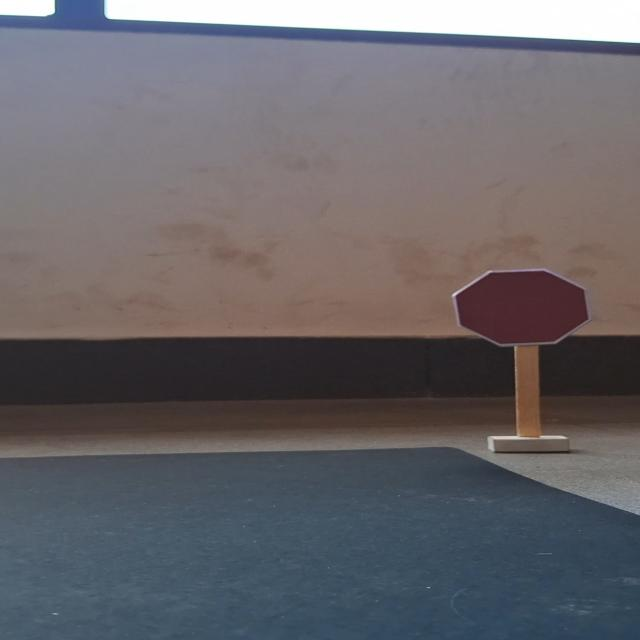Stop: (451, 268, 594, 347)
